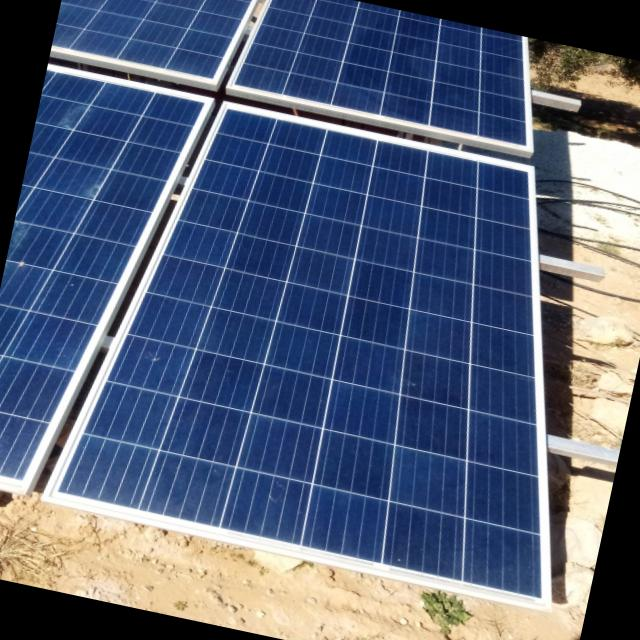faulty: (0, 70, 198, 482), (65, 0, 527, 145)
no faulty: (60, 107, 539, 595)
